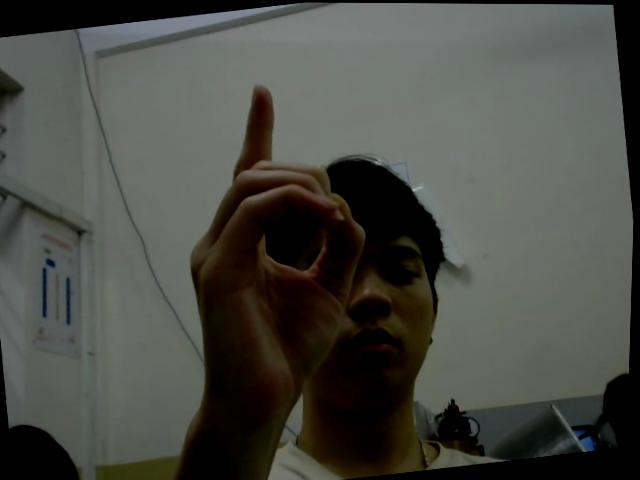D: (163, 69, 392, 421)
